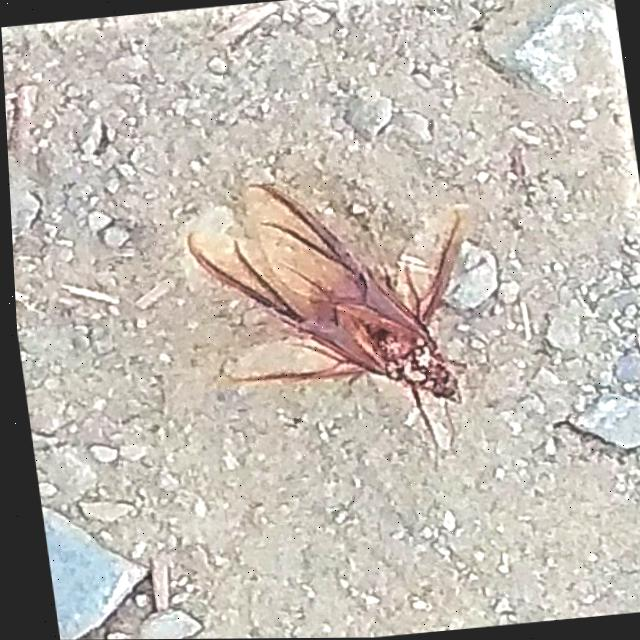Alive-Male-Alate: (167, 162, 488, 469)
